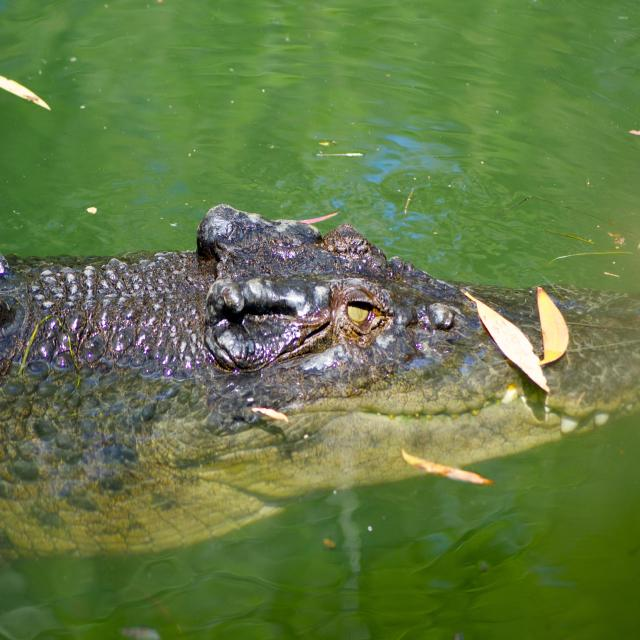crocodile: (0, 203, 586, 377)
